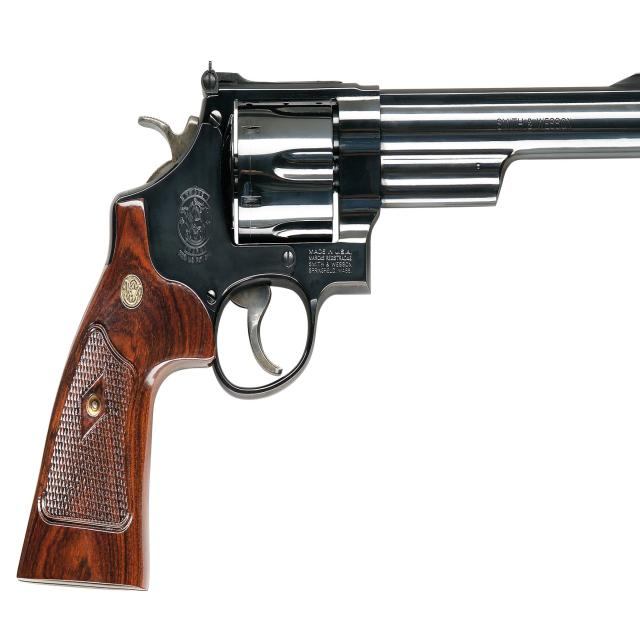Weapon: (18, 61, 640, 587)
